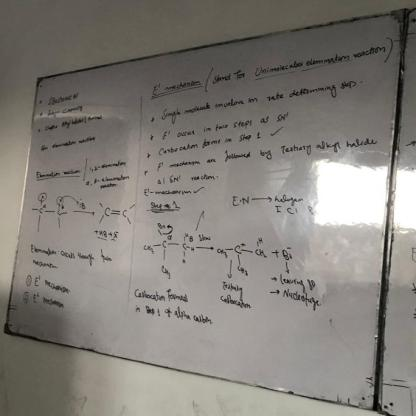Handwritten text: (155, 72, 364, 129), (208, 36, 391, 89), (165, 132, 380, 170), (171, 107, 292, 143), (154, 129, 256, 159), (24, 242, 117, 271), (215, 279, 259, 313), (130, 283, 192, 307), (41, 100, 90, 120), (44, 89, 84, 107)
